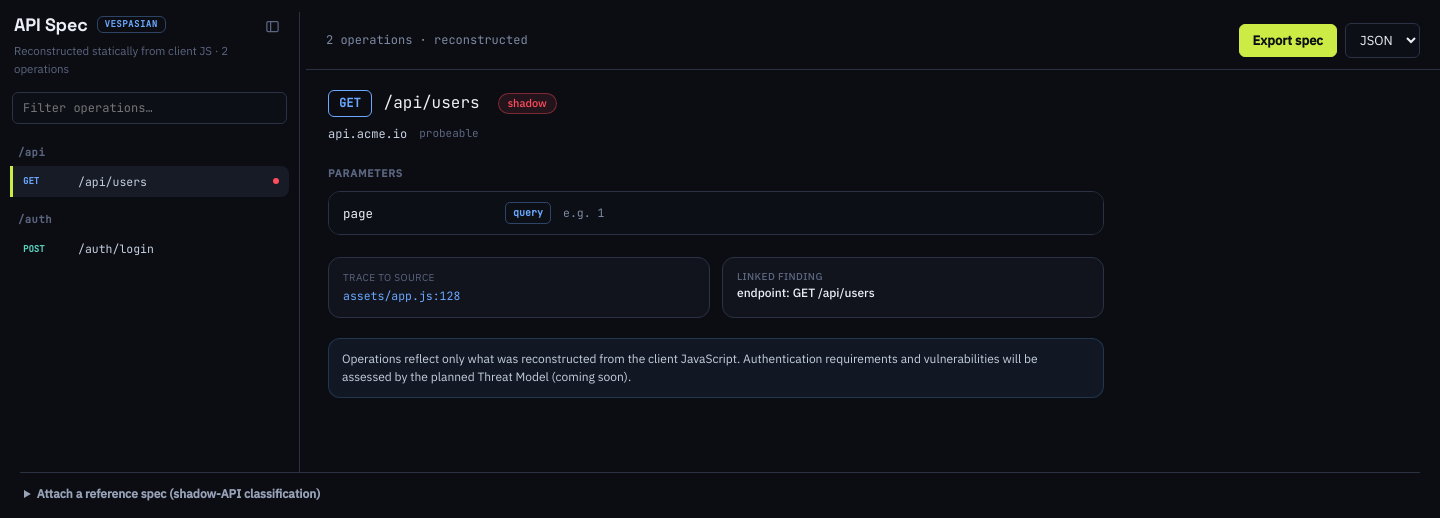
Test case: ApiSpecPage › switches the detail when another operation is picked
Expected: the text "/auth" is shown, [18,212,52,226]
Click the button "POST /auth/login" at (150, 249), box [10,233,289,264]
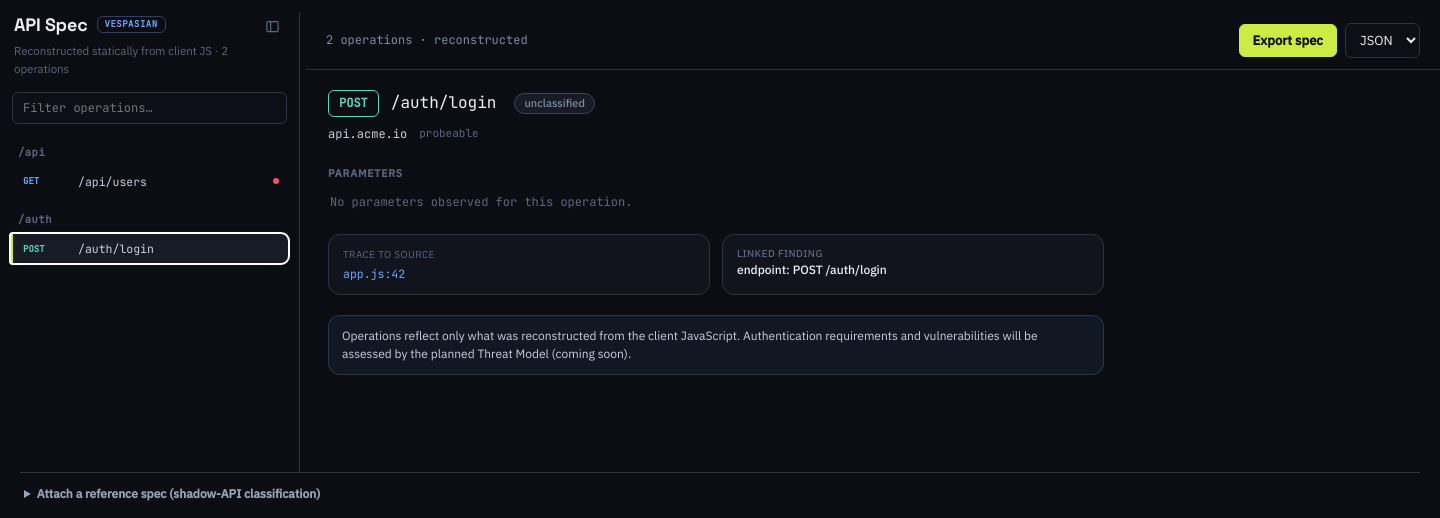
Expected: the text "No parameters observed for this operation." is shown, [330,194,632,210]
